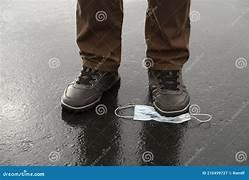Mask: (115, 105, 211, 123)
